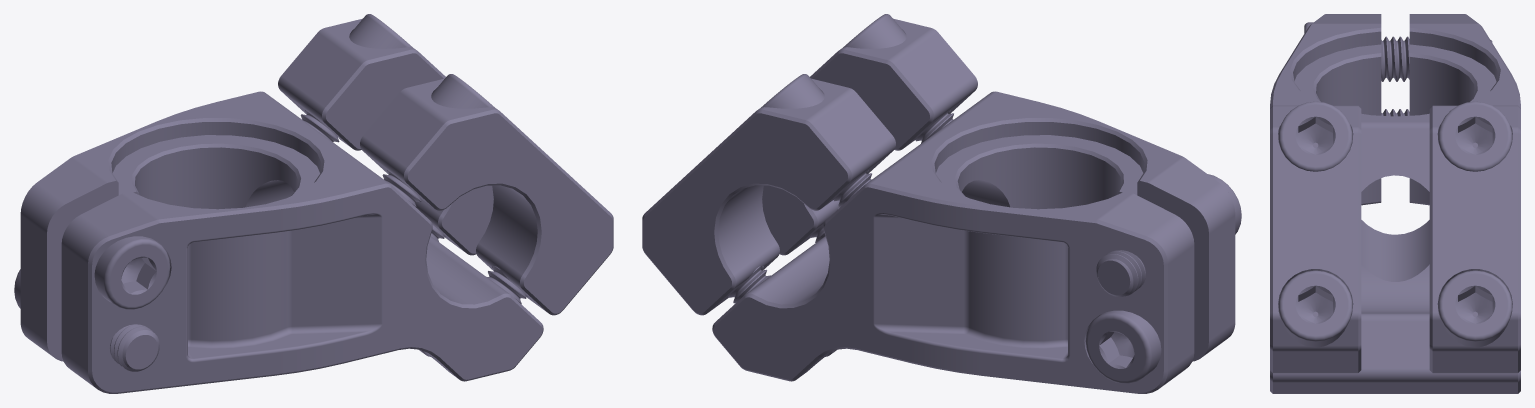
Rendered from bike_stem.glb.
3 views of the same model, side by side, from view 1: azimuth 30°, elevation 25°; view 2: azimuth 150°, elevation 25°; view 3: azimuth 270°, elevation 25° (orthographic). The views are drawn at different scales.
Parts seen in each view (by area): view 1: Stem; view 2: Stem; view 3: Stem.
Boxes of the visible parts, x1,y1,x2,y2 form: Stem: [14, 14, 613, 393]; Stem: [642, 14, 1241, 393]; Stem: [1270, 14, 1520, 393].
Bounding box in the file's own units: 4.16 × 2.29 × 1.82.
